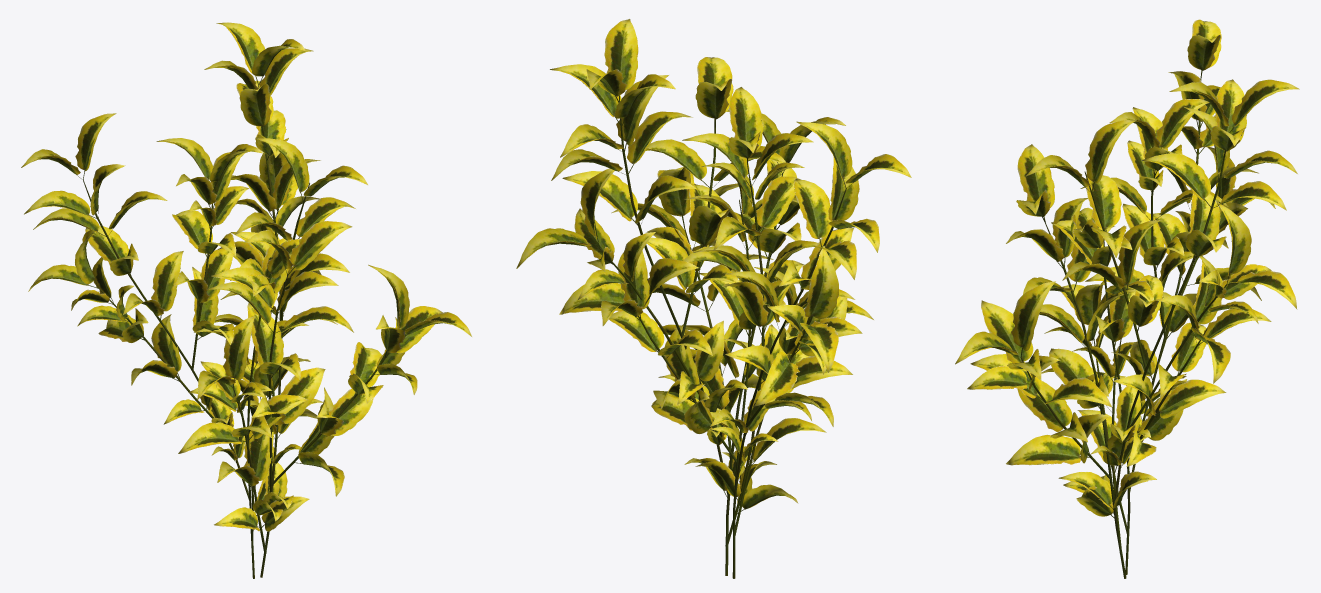
File: gumiguildedge_nocolor.fbx
3 renders of one model, left to right at view 1: azimuth 30°, elevation 25°; view 2: azimuth 150°, elevation 25°; view 3: azimuth 270°, elevation 25°, orthographic. The views are drawn at different scales.
Visible parts, largest first — view 1: 903.070, 903.071, 903.087, 903.034, 903.016, 903.046, 903.053, 903.076, 903.086, 903.011, 903, 903.077 (+37 smaller); view 2: 903.010, 903.046, 903.047, 903.056, 903.053, 903.005, 903.017, 903.063, 903, 903.048, 903.011, 903.007 (+47 smaller); view 3: 903.075, 903.089, 903.056, 903.053, 903.030, 903.070, 903.077, 903.047, 903.076, 903.046, 903.087, 903.005 (+44 smaller).
Boxes of the visible parts, x1=… form: 903.070: x1=243, y1=221, x2=352, y2=275; 903.071: x1=247, y1=302, x2=300, y2=379; 903.087: x1=211, y1=267, x2=338, y2=313; 903.034: x1=197, y1=316, x2=255, y2=399; 903.016: x1=123, y1=251, x2=183, y2=319; 903.046: x1=216, y1=22, x2=305, y2=85; 903.053: x1=255, y1=138, x2=367, y2=202; 903.076: x1=317, y1=388, x2=373, y2=437; 903.086: x1=251, y1=367, x2=325, y2=426; 903.011: x1=131, y1=314, x2=181, y2=385; 903: x1=21, y1=113, x2=116, y2=179; 903.077: x1=376, y1=306, x2=442, y2=357; 903.010: x1=800, y1=246, x2=838, y2=372; 903.046: x1=586, y1=19, x2=638, y2=102; 903.047: x1=562, y1=171, x2=695, y2=225; 903.056: x1=516, y1=168, x2=614, y2=268; 903.053: x1=695, y1=57, x2=733, y2=127; 903.005: x1=728, y1=87, x2=763, y2=164; 903.017: x1=828, y1=157, x2=879, y2=252; 903.063: x1=560, y1=75, x2=668, y2=157; 903: x1=796, y1=121, x2=911, y2=188; 903.048: x1=550, y1=64, x2=675, y2=125; 903.011: x1=725, y1=345, x2=852, y2=388; 903.007: x1=682, y1=133, x2=813, y2=186; 903.075: x1=955, y1=281, x2=1055, y2=364; 903.089: x1=1006, y1=414, x2=1109, y2=465; 903.056: x1=1217, y1=201, x2=1297, y2=309; 903.053: x1=1026, y1=120, x2=1136, y2=192; 903.030: x1=1113, y1=374, x2=1226, y2=418; 903.070: x1=1016, y1=144, x2=1054, y2=222; 903.077: x1=981, y1=300, x2=1041, y2=380; 903.047: x1=1185, y1=193, x2=1226, y2=261; 903.076: x1=1017, y1=381, x2=1087, y2=442; 903.046: x1=1169, y1=79, x2=1299, y2=132; 903.087: x1=1006, y1=198, x2=1087, y2=268; 903.005: x1=1109, y1=99, x2=1209, y2=148.
Bounding box in the file's own units: 54.77 × 75.22 × 46.73.
1 material, 1 textured.
